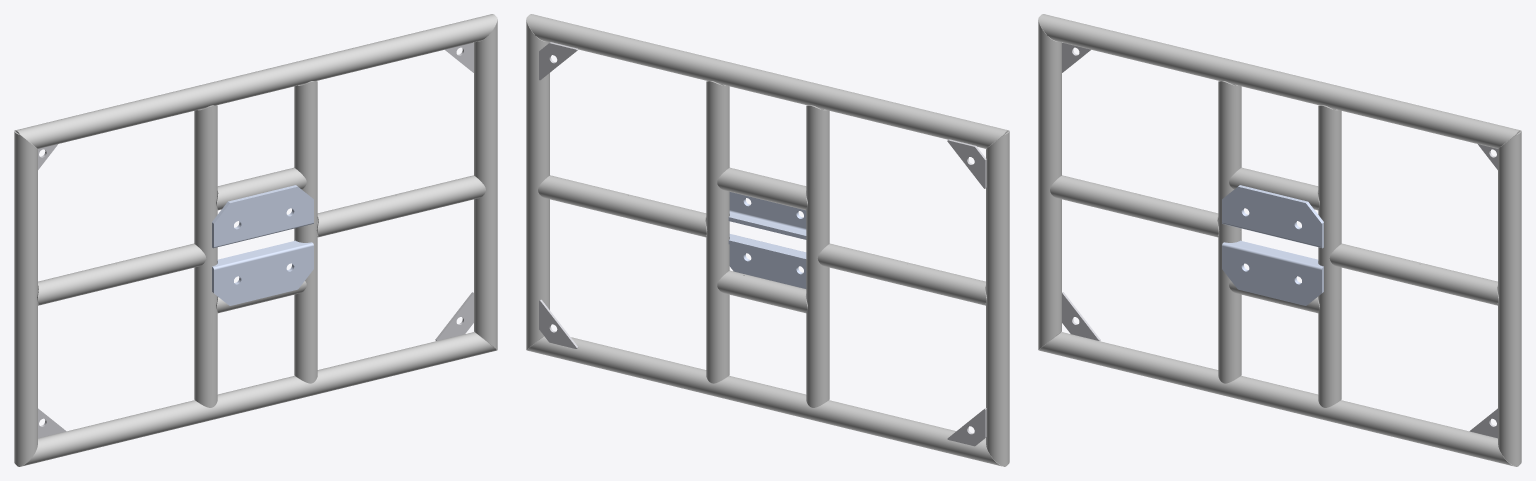
The picture shows the model from 3 angles, left to right: view 1: azimuth 30°, elevation 25°; view 2: azimuth 150°, elevation 25°; view 3: azimuth 330°, elevation 25°; orthographic projection.
Parts seen in each view (by area): view 1: Tubo Externo Maior Corte 45° - Base 1200x800mm AL-P30-2, Tubo Externo Maior Corte 45° - Base 1200x800mm AL-P30-1, Tubo Externo Menor Corte 45° - Base 1200x800mm AL-P30-1, Tubo Externo Menor Corte 45° - Base 1200x800mm AL-P30-2, Tubo Interno Maior - Base 1200x800mm AL-P30-2, Tubo Interno Maior - Base 1200x800mm AL-P30-1, Chapa de cabeça-2, Chapa de cabeça-1, Tubo Interno Menor - Base 1200x800mm AL-P30-2, Tubo Interno Menor - Base 1200x800mm AL-P30-1, Tubo de Cabeça Sem Rasgo AL-P30-1, Chapa Triângulo - Base AL-P30-1 (+1 smaller); view 2: Tubo Externo Maior Corte 45° - Base 1200x800mm AL-P30-2, Tubo Externo Maior Corte 45° - Base 1200x800mm AL-P30-1, Tubo Externo Menor Corte 45° - Base 1200x800mm AL-P30-1, Tubo Interno Maior - Base 1200x800mm AL-P30-2, Tubo Interno Maior - Base 1200x800mm AL-P30-1, Tubo Externo Menor Corte 45° - Base 1200x800mm AL-P30-2, Tubo Interno Menor - Base 1200x800mm AL-P30-2, Tubo Interno Menor - Base 1200x800mm AL-P30-1, Chapa de cabeça-2, Chapa de cabeça-1, Tubo de Cabeça Sem Rasgo AL-P30-2, Tubo de Cabeça Sem Rasgo AL-P30-1 (+4 smaller); view 3: Tubo Externo Maior Corte 45° - Base 1200x800mm AL-P30-2, Tubo Externo Maior Corte 45° - Base 1200x800mm AL-P30-1, Tubo Externo Menor Corte 45° - Base 1200x800mm AL-P30-2, Tubo Externo Menor Corte 45° - Base 1200x800mm AL-P30-1, Tubo Interno Maior - Base 1200x800mm AL-P30-1, Tubo Interno Maior - Base 1200x800mm AL-P30-2, Chapa de cabeça-2, Chapa de cabeça-1, Tubo Interno Menor - Base 1200x800mm AL-P30-1, Tubo Interno Menor - Base 1200x800mm AL-P30-2, Tubo de Cabeça Sem Rasgo AL-P30-1, Chapa Triângulo - Base AL-P30-4 (+1 smaller).
Boxes of the visible parts, x1,y1,x2,y2 form: Tubo Externo Maior Corte 45° - Base 1200x800mm AL-P30-2: [14, 14, 497, 148]; Tubo Externo Maior Corte 45° - Base 1200x800mm AL-P30-1: [16, 332, 497, 466]; Tubo Externo Menor Corte 45° - Base 1200x800mm AL-P30-1: [14, 131, 37, 466]; Tubo Externo Menor Corte 45° - Base 1200x800mm AL-P30-2: [474, 19, 497, 349]; Tubo Interno Maior - Base 1200x800mm AL-P30-2: [194, 105, 217, 407]; Tubo Interno Maior - Base 1200x800mm AL-P30-1: [294, 81, 317, 383]; Chapa de cabeça-2: [212, 240, 313, 305]; Chapa de cabeça-1: [212, 185, 313, 248]; Tubo Interno Menor - Base 1200x800mm AL-P30-2: [316, 175, 485, 237]; Tubo Interno Menor - Base 1200x800mm AL-P30-1: [37, 243, 206, 305]; Tubo de Cabeça Sem Rasgo AL-P30-1: [216, 167, 306, 210]; Chapa Triângulo - Base AL-P30-1: [435, 292, 473, 340]; Tubo Externo Maior Corte 45° - Base 1200x800mm AL-P30-2: [526, 14, 1009, 148]; Tubo Externo Maior Corte 45° - Base 1200x800mm AL-P30-1: [526, 336, 1007, 466]; Tubo Externo Menor Corte 45° - Base 1200x800mm AL-P30-1: [986, 131, 1009, 466]; Tubo Interno Maior - Base 1200x800mm AL-P30-2: [806, 105, 829, 407]; Tubo Interno Maior - Base 1200x800mm AL-P30-1: [706, 81, 729, 383]; Tubo Externo Menor Corte 45° - Base 1200x800mm AL-P30-2: [526, 19, 549, 349]; Tubo Interno Menor - Base 1200x800mm AL-P30-2: [538, 175, 707, 237]; Tubo Interno Menor - Base 1200x800mm AL-P30-1: [817, 243, 986, 305]; Chapa de cabeça-2: [728, 234, 806, 288]; Chapa de cabeça-1: [728, 192, 806, 239]; Tubo de Cabeça Sem Rasgo AL-P30-2: [717, 270, 807, 313]; Tubo de Cabeça Sem Rasgo AL-P30-1: [717, 167, 807, 210]; Tubo Externo Maior Corte 45° - Base 1200x800mm AL-P30-2: [1038, 14, 1521, 148]; Tubo Externo Maior Corte 45° - Base 1200x800mm AL-P30-1: [1038, 332, 1519, 466]; Tubo Externo Menor Corte 45° - Base 1200x800mm AL-P30-2: [1498, 131, 1521, 466]; Tubo Externo Menor Corte 45° - Base 1200x800mm AL-P30-1: [1038, 19, 1061, 349]; Tubo Interno Maior - Base 1200x800mm AL-P30-1: [1318, 105, 1341, 407]; Tubo Interno Maior - Base 1200x800mm AL-P30-2: [1218, 81, 1241, 383]; Chapa de cabeça-2: [1222, 240, 1323, 305]; Chapa de cabeça-1: [1222, 185, 1323, 248]; Tubo Interno Menor - Base 1200x800mm AL-P30-1: [1050, 175, 1219, 237]; Tubo Interno Menor - Base 1200x800mm AL-P30-2: [1329, 243, 1498, 305]; Tubo de Cabeça Sem Rasgo AL-P30-1: [1229, 167, 1319, 210]; Chapa Triângulo - Base AL-P30-4: [1062, 292, 1100, 340].
Bounding box in the file's own units: 1.2 × 0.8 × 0.0603.
